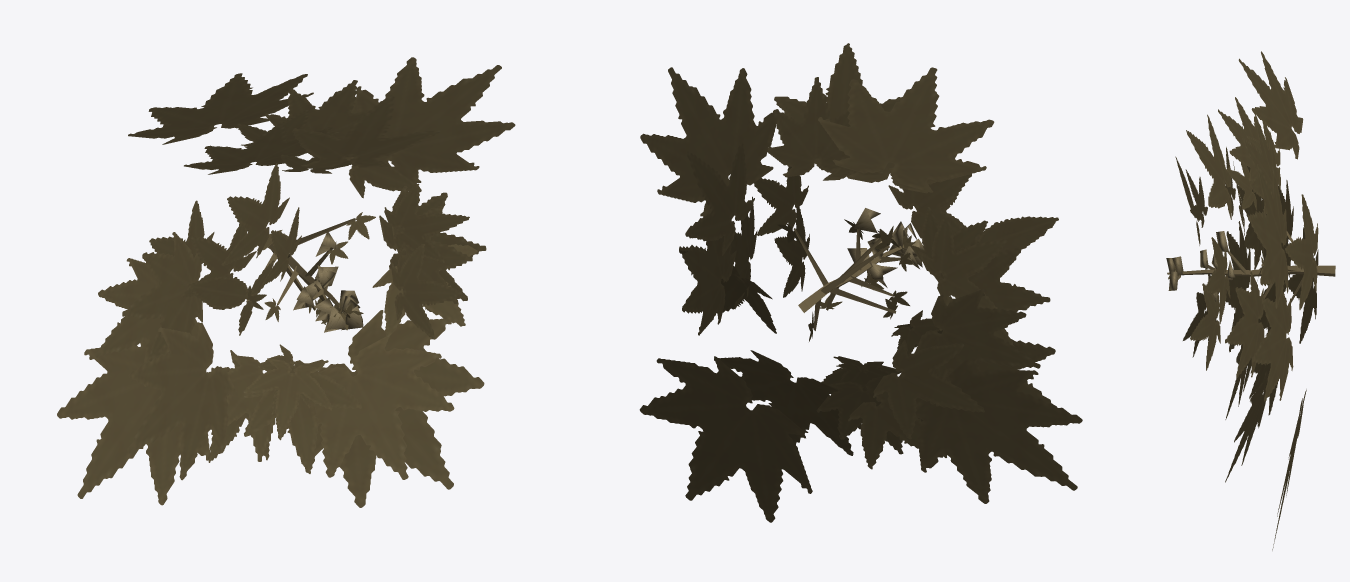
Rendered from p_male_tree_preflower_c4_cards.obj.
The picture shows the model from 3 angles, left to right: view 1: azimuth 30°, elevation 25°; view 2: azimuth 150°, elevation 25°; view 3: azimuth 270°, elevation 25°; orthographic projection. The views are drawn at different scales.
Bounding box in the file's own units: 1.31 × 1.25 × 0.426.
Materials: 1 (1 with a texture image).
